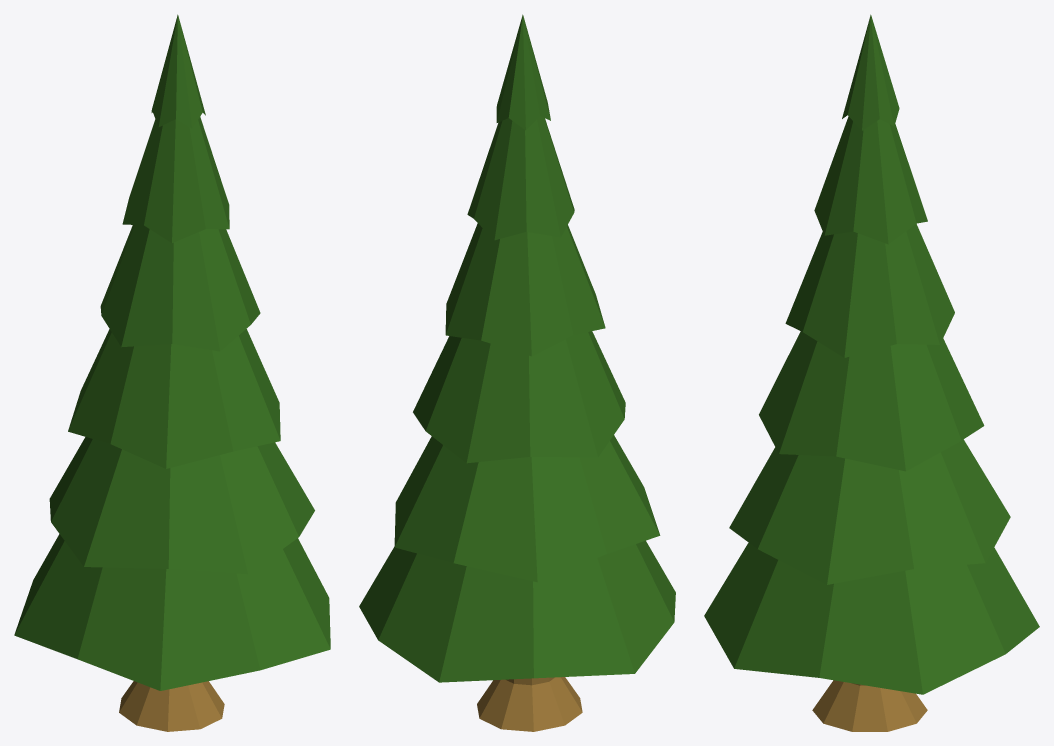
The model's file is sapin.fbx.
3 views of the same model, side by side, from view 1: azimuth 30°, elevation 25°; view 2: azimuth 150°, elevation 25°; view 3: azimuth 270°, elevation 25° (orthographic).
Visible parts, largest first — view 1: Cylindre; view 2: Cylindre; view 3: Cylindre.
Part boxes in pixels (left/top/right/bottom): Cylindre: left=14, top=14, right=330, bottom=731; Cylindre: left=359, top=14, right=675, bottom=731; Cylindre: left=704, top=14, right=1039, bottom=731.
Size of the model in its own units: 380 by 913 by 397.
